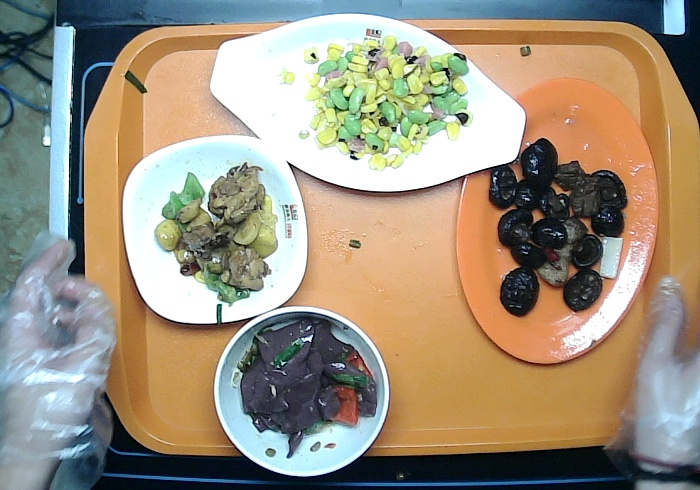NLDX-Bai_Se_Xiao_Fang_Die: (116, 131, 310, 332)
NLDX-Fan_Wan: (211, 304, 394, 479)
NLDX-Ju_Se_Pan: (454, 74, 664, 369)
NLDX-Yu_Pan: (203, 12, 527, 198)
